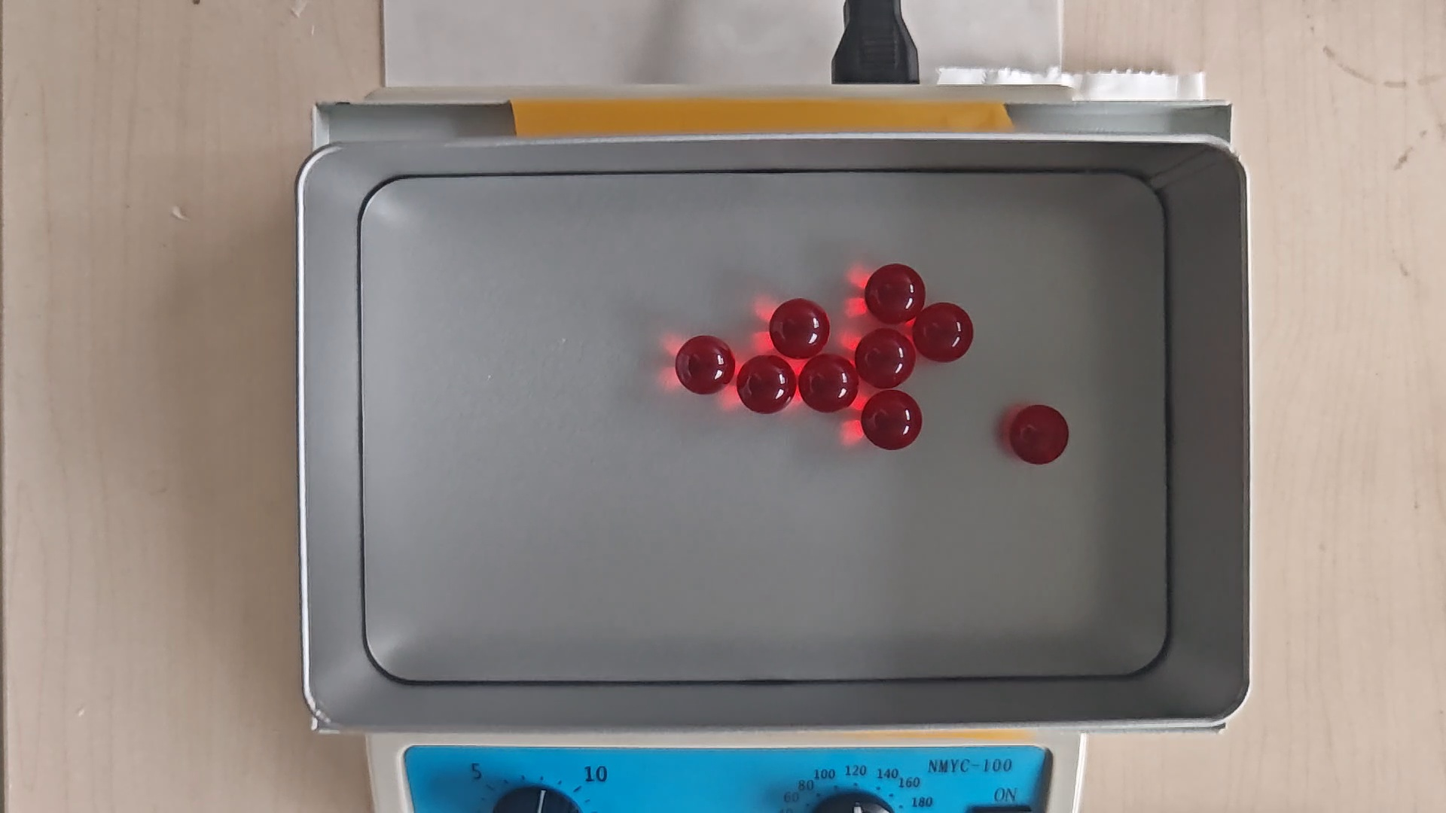ball: (862, 389, 922, 451), (770, 297, 830, 359), (914, 302, 974, 364), (1009, 405, 1069, 466), (856, 328, 916, 389), (675, 335, 735, 396), (865, 263, 924, 324), (739, 354, 796, 415), (799, 354, 857, 413)
container: (361, 171, 1168, 682)
